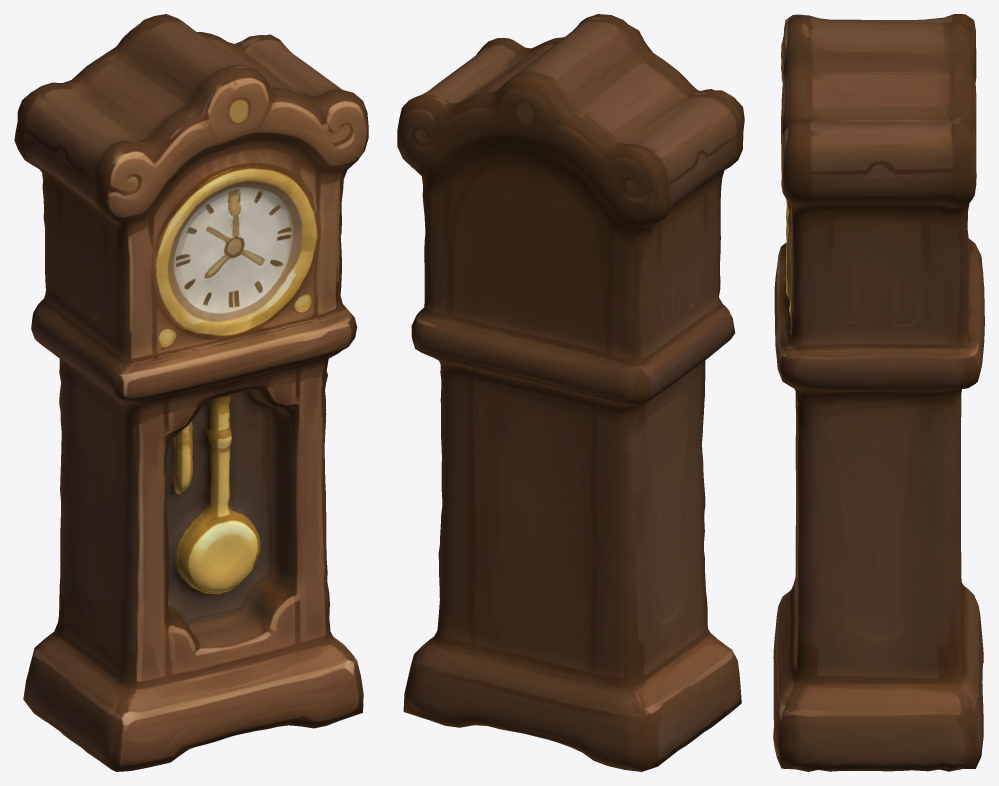
File: Wood_clock.glb
3 renders of one model, left to right at view 1: azimuth 30°, elevation 25°; view 2: azimuth 150°, elevation 25°; view 3: azimuth 270°, elevation 25°, orthographic. The views are drawn at different scales.
Visible parts, largest first — view 1: RETOPO; view 2: RETOPO; view 3: RETOPO.
Boxes of the visible parts, box(x1,y1,x2,y2) form: RETOPO: box(14, 14, 368, 771); RETOPO: box(397, 14, 744, 771); RETOPO: box(773, 14, 984, 771).
Size of the model in its own units: 0.4632 by 1.1 by 0.3039.
Materials: 1 (1 with a texture image).
